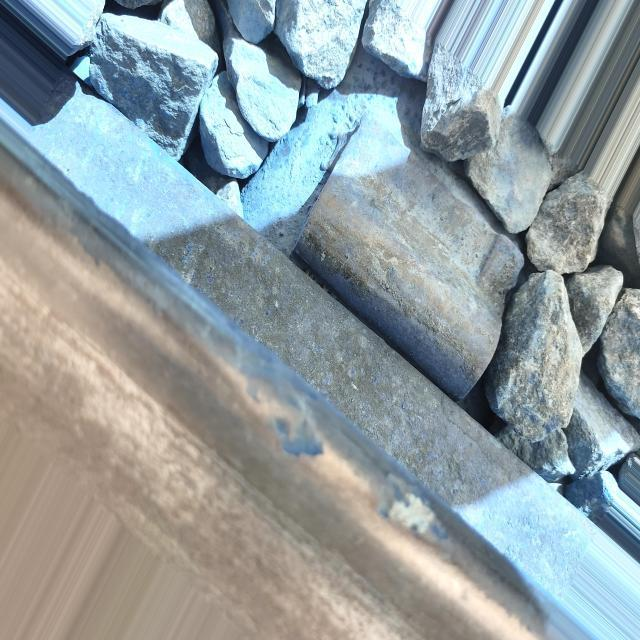Missing Fastener: (265, 99, 527, 380)
